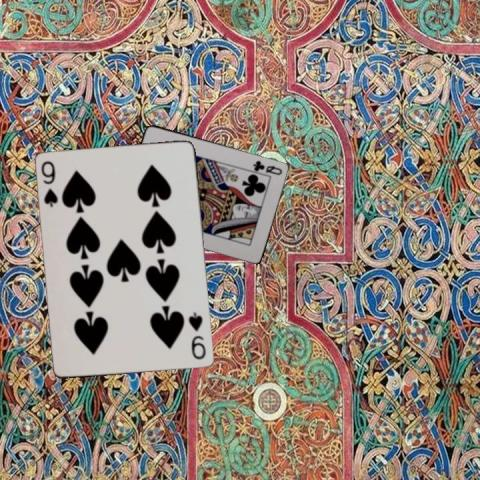9s: (186, 309, 207, 361), (39, 158, 59, 209)
Qc: (250, 157, 284, 177)
